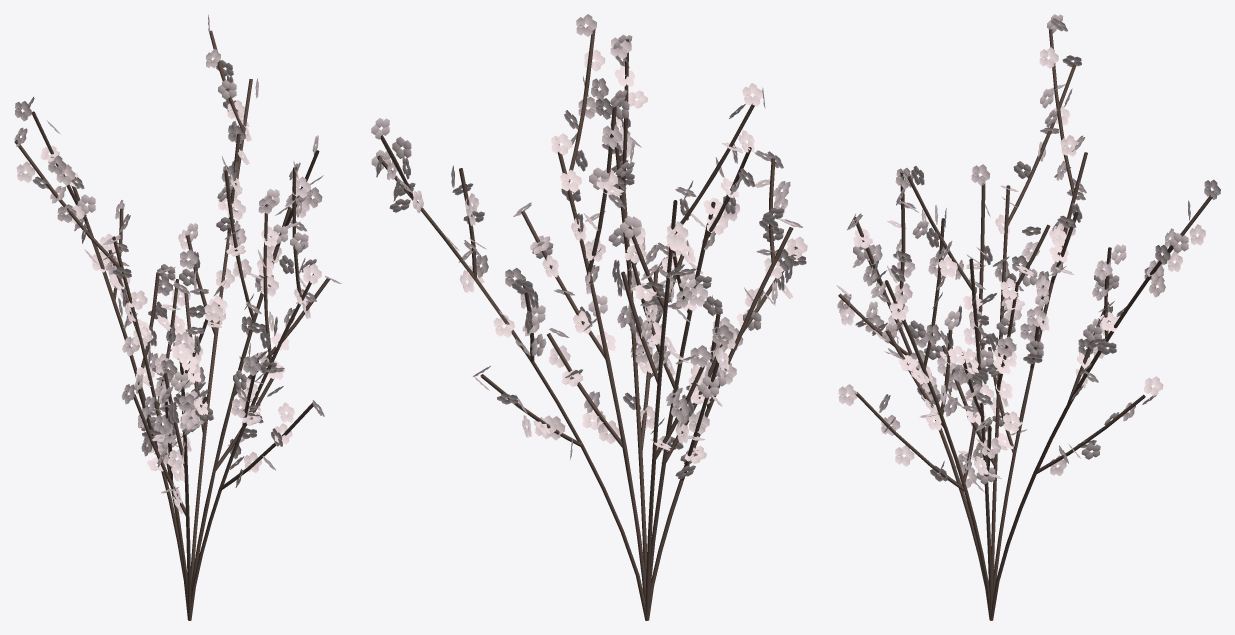
File: blossom-2.glb
3 views of the same model, side by side, from view 1: azimuth 30°, elevation 25°; view 2: azimuth 150°, elevation 25°; view 3: azimuth 270°, elevation 25° (orthographic). The views are drawn at different scales.
Visible parts, largest first — view 1: blossom-leaves, blossom-stems; view 2: blossom-leaves, blossom-stems; view 3: blossom-leaves, blossom-stems.
Boxes of the visible parts, x1,y1,x2,y2 form: blossom-leaves: [14, 14, 341, 514]; blossom-stems: [14, 30, 330, 620]; blossom-leaves: [371, 14, 807, 479]; blossom-stems: [377, 28, 797, 620]; blossom-leaves: [836, 14, 1220, 491]; blossom-stems: [838, 29, 1212, 620].
Size of the model in its own units: 0.4891 by 0.8346 by 0.5385.
